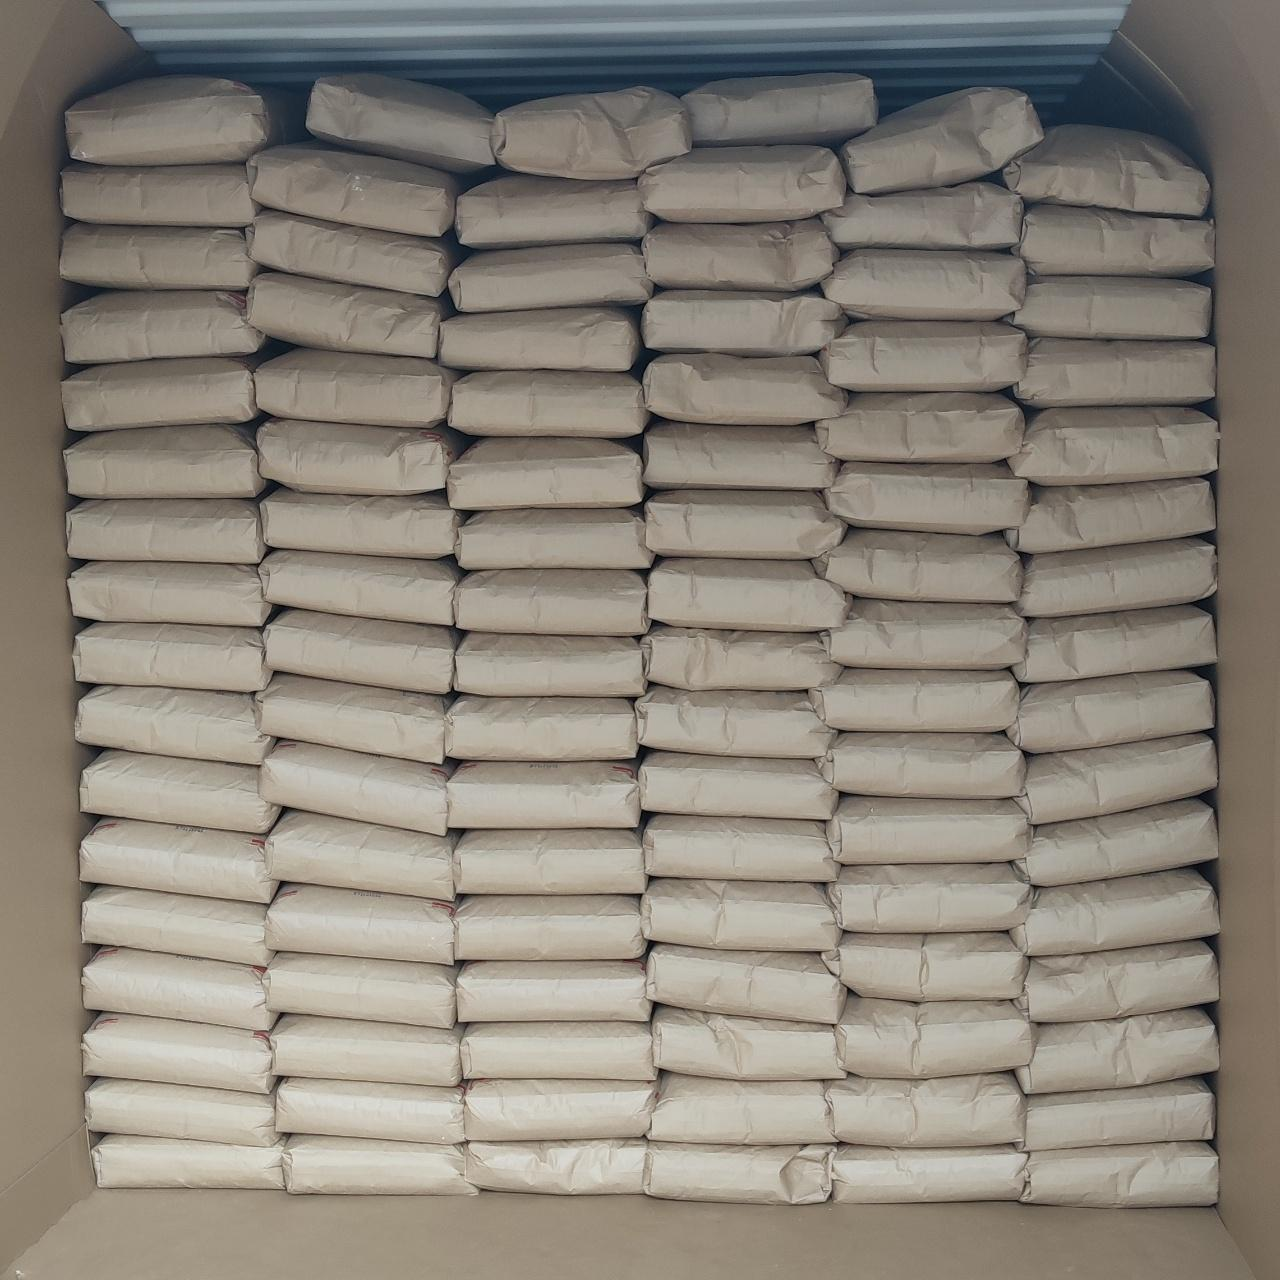sack: (837, 87, 1043, 195), (65, 75, 305, 165), (247, 143, 460, 236), (1002, 124, 1210, 217), (491, 86, 692, 179), (306, 74, 495, 172), (1010, 869, 1219, 955), (247, 211, 457, 296), (1018, 734, 1217, 823), (1016, 798, 1217, 886), (261, 741, 448, 835), (247, 272, 450, 358), (1016, 1008, 1217, 1094), (266, 811, 455, 900), (257, 675, 448, 763), (1006, 672, 1213, 753), (79, 750, 280, 833), (81, 819, 277, 903), (1008, 407, 1218, 485), (836, 996, 1032, 1078), (266, 609, 457, 693), (1018, 941, 1218, 1021), (638, 146, 845, 223), (255, 348, 455, 427), (647, 944, 845, 1023), (1006, 477, 1214, 552), (1018, 537, 1215, 616), (1012, 606, 1216, 682), (83, 948, 274, 1029), (813, 528, 1022, 602), (76, 686, 269, 764), (82, 886, 272, 965), (259, 551, 461, 625), (83, 1014, 271, 1093), (265, 884, 453, 963), (823, 462, 1028, 534), (825, 1074, 1027, 1147), (455, 174, 654, 248), (648, 557, 847, 631), (820, 320, 1027, 391), (257, 420, 454, 494), (821, 248, 1026, 319), (821, 597, 1025, 668), (263, 953, 458, 1027), (62, 292, 265, 363), (822, 931, 1027, 1001), (682, 73, 878, 146), (1018, 204, 1214, 277), (641, 878, 839, 950), (818, 393, 1024, 462), (260, 488, 463, 558), (644, 354, 847, 424), (448, 243, 653, 312), (62, 357, 258, 429), (651, 1007, 844, 1080), (65, 427, 265, 497), (637, 686, 833, 757), (1014, 337, 1214, 406), (643, 219, 837, 290), (645, 490, 847, 558), (827, 796, 1029, 864), (448, 438, 644, 508), (1024, 1078, 1214, 1150), (821, 182, 1024, 249), (828, 863, 1030, 930), (74, 623, 270, 692), (271, 1015, 461, 1086), (644, 420, 837, 489), (810, 668, 1018, 732), (62, 223, 259, 290), (640, 752, 837, 819), (440, 306, 642, 371), (448, 372, 649, 437), (640, 625, 841, 690), (67, 562, 271, 626), (641, 291, 848, 354), (817, 734, 1024, 797), (648, 1074, 834, 1144), (644, 815, 838, 882), (453, 569, 649, 635), (60, 163, 258, 228), (1021, 1142, 1217, 1207), (85, 1079, 276, 1145), (447, 762, 640, 827), (67, 500, 265, 563), (276, 1077, 465, 1143), (1010, 277, 1210, 339), (453, 830, 646, 894), (445, 696, 638, 759), (454, 633, 646, 696), (456, 896, 646, 959), (455, 509, 652, 569), (457, 961, 651, 1021), (465, 1080, 656, 1140), (461, 1022, 657, 1080), (282, 1135, 477, 1193), (645, 1143, 833, 1203), (832, 1145, 1026, 1202), (91, 1135, 283, 1188), (466, 1140, 646, 1194)
